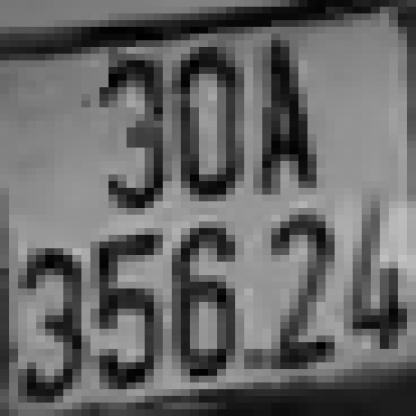0: (172, 54, 244, 201)
2: (262, 208, 326, 362)
3: (18, 241, 91, 396), (99, 60, 172, 208)
4: (335, 208, 407, 342)
5: (90, 228, 163, 383)
6: (172, 221, 235, 376)
A: (244, 40, 308, 195)
